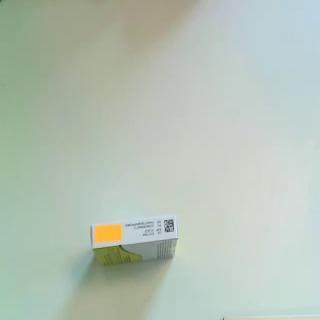buprefarm5ug_hour: (90, 212, 181, 268)
